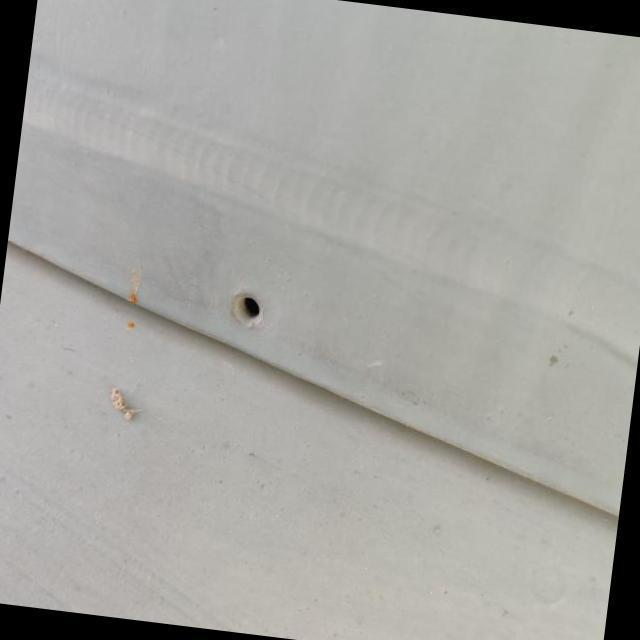Fastener Damage: (202, 264, 290, 358)
